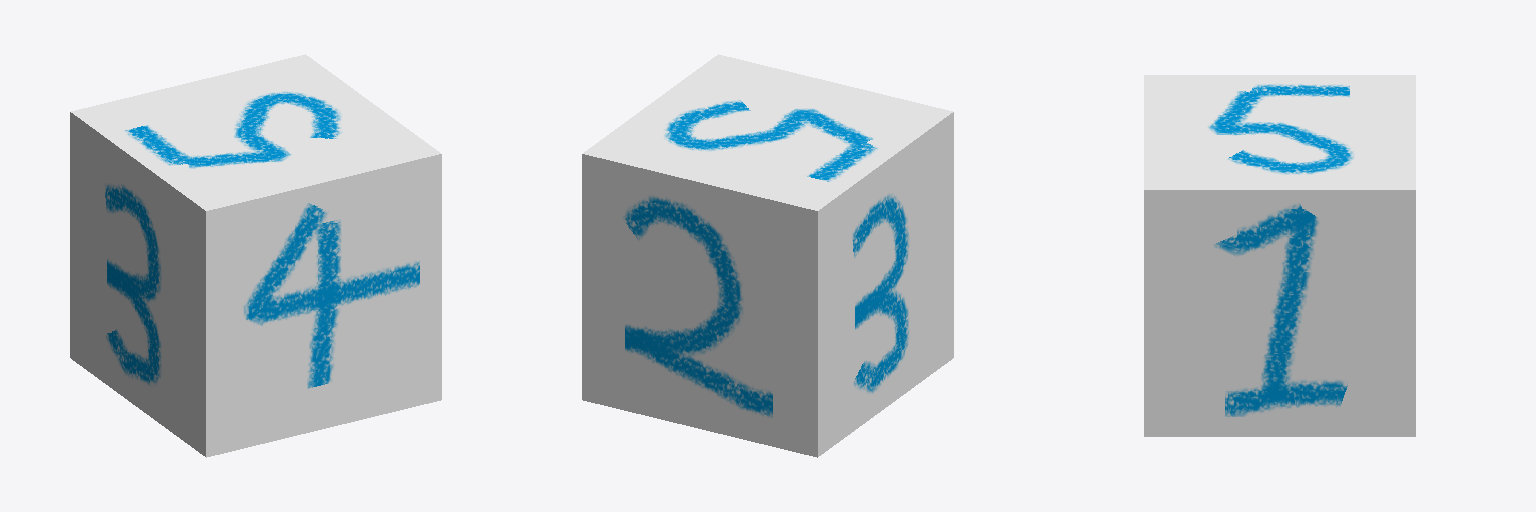
3 renders of one model, left to right at view 1: azimuth 30°, elevation 25°; view 2: azimuth 150°, elevation 25°; view 3: azimuth 270°, elevation 25°, orthographic.
Parts seen in each view (by area): view 1: Cube; view 2: Cube; view 3: Cube.
Part boxes in pixels (x1,y1,x2,y2): Cube: (70,54,441,457); Cube: (582,54,953,457); Cube: (1144,75,1415,436).
Bounding box in the file's own units: 2 × 2 × 2.
6 materials, 6 textured.